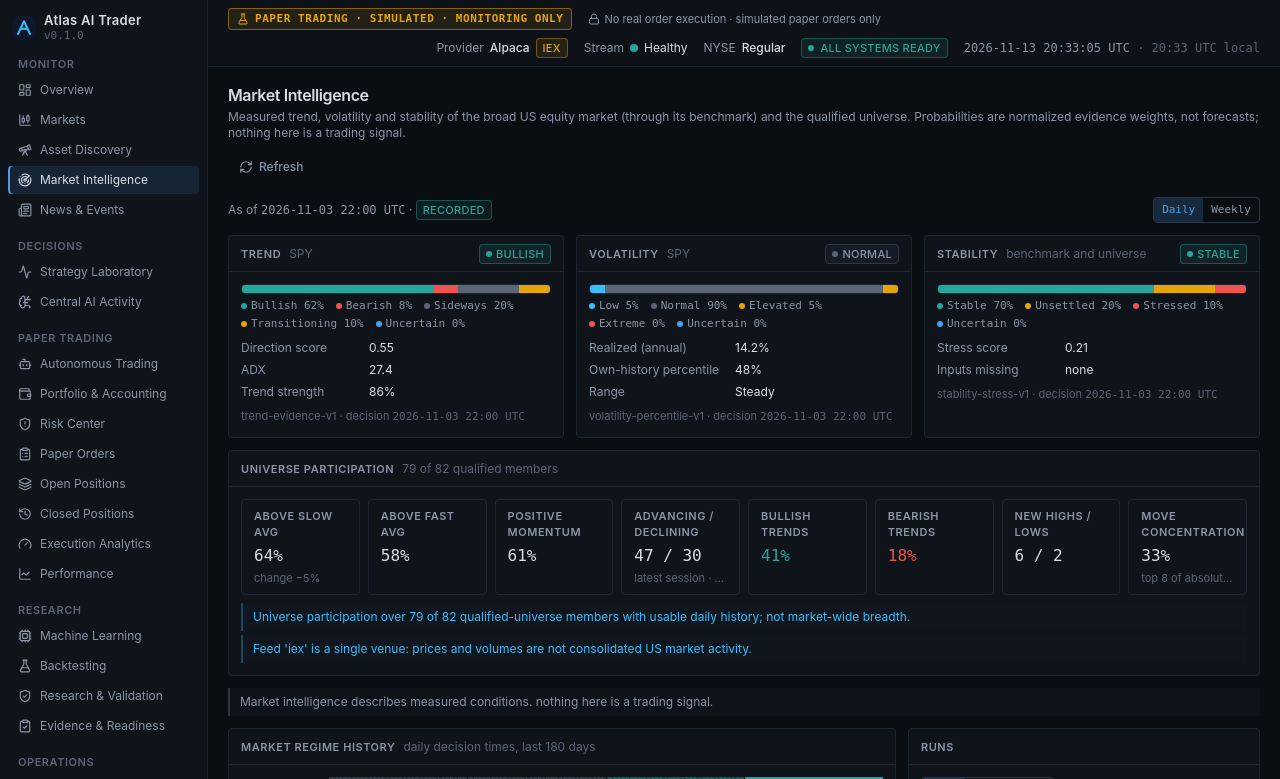
Test: Market Intelligence › switches to the weekly timeframe and shows insufficient data as uncertain
The width and height of the screenshot is (1280, 779).
Expected: the element named "Broad market conditions" is shown, 228,235 -> 1260,438
Click the radio button labelled "Weekly": (1231, 210) 1203,198 -> 1259,222
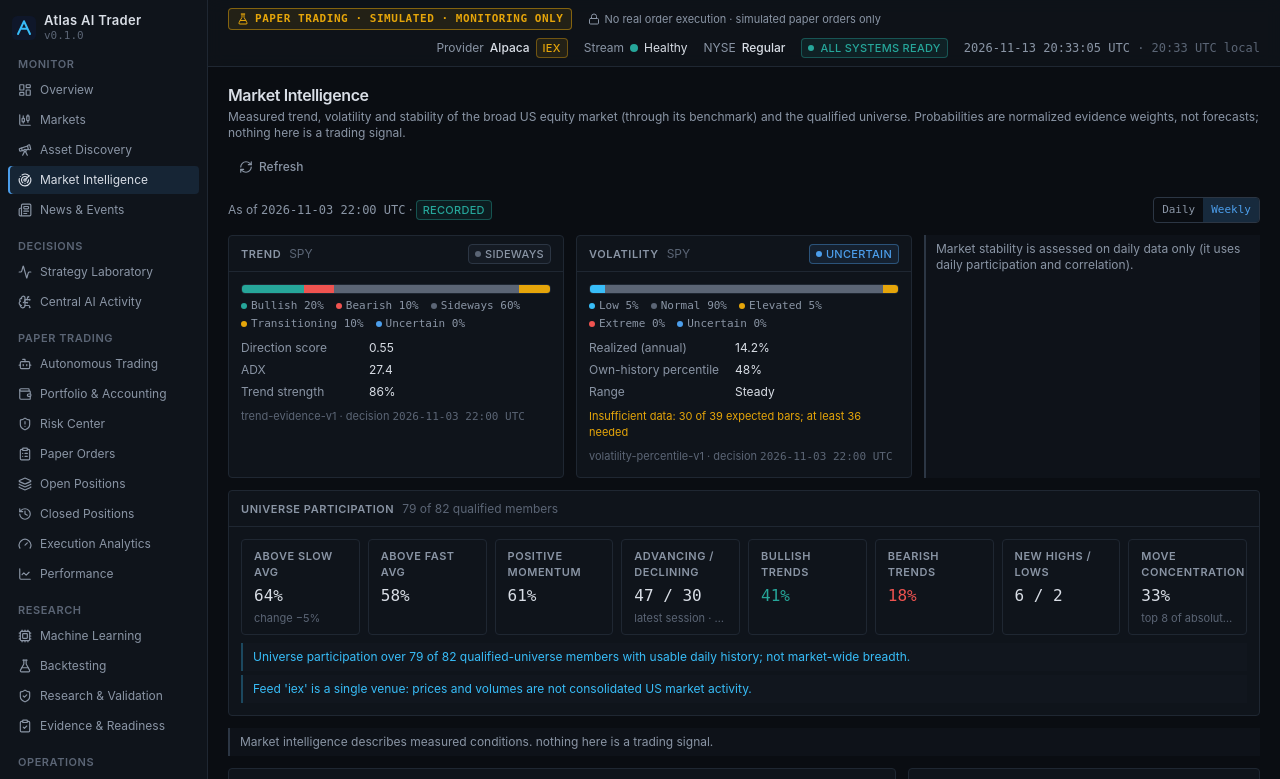
Expected: the list item "Sideways 60%" is shown, 431,298 -> 520,314
Expected: the text "Insufficient data: 30 of 39 expected bars" is shown, 589,408 -> 899,440
Expected: the text "daily data only" is shown, 936,241 -> 1240,272
